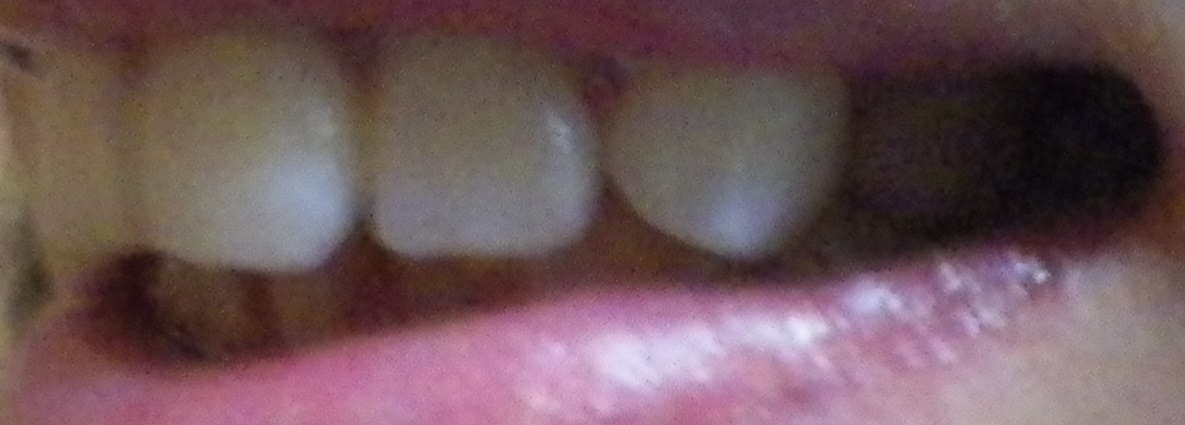boca: (16, 21, 1098, 360)
